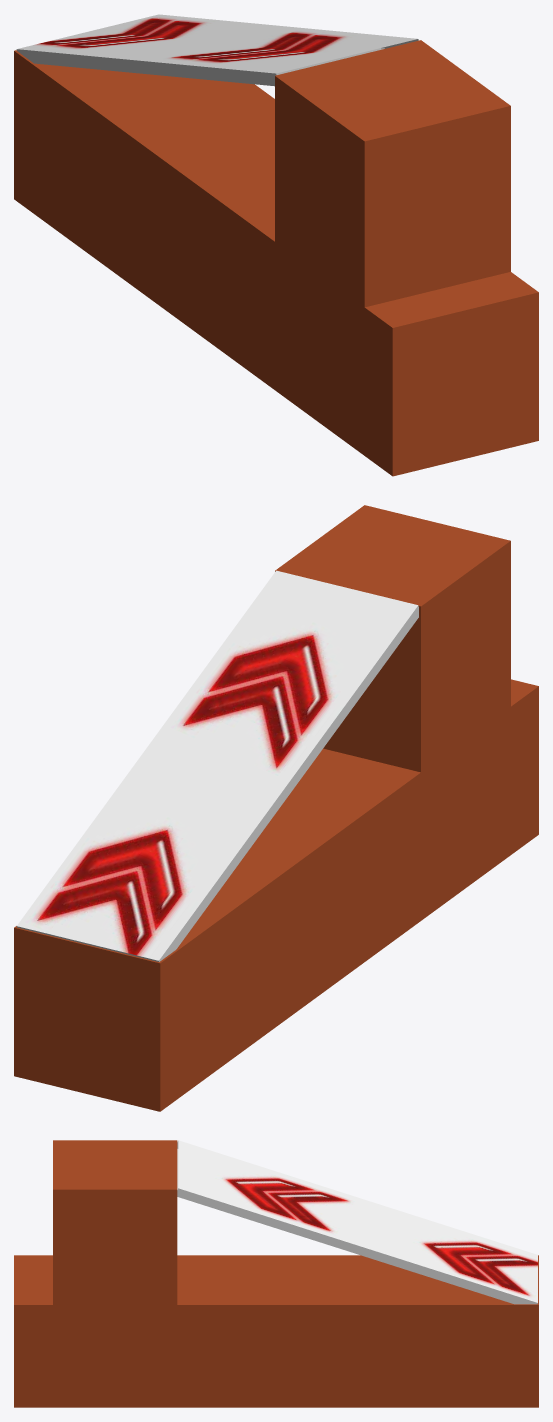
The model's file is tal3a-3.fbx.
3 renders of one model, top to bottom at view 1: azimuth 30°, elevation 25°; view 2: azimuth 150°, elevation 25°; view 3: azimuth 270°, elevation 25°, orthographic. The views are drawn at different scales.
Visible parts, largest first — view 1: group39_pasted__pCube18; view 2: group39_pasted__pCube18; view 3: group39_pasted__pCube18.
Part boxes in pixels (x1,y1,x2,y2): group39_pasted__pCube18: (14, 14, 538, 476); group39_pasted__pCube18: (14, 505, 538, 1111); group39_pasted__pCube18: (14, 1140, 538, 1407).
Size of the model in its own units: 1.84 by 3.8 by 8.27.
3 materials, 1 textured.
